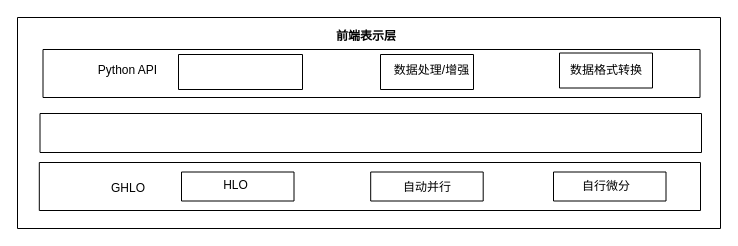
This 738x246 diagram has some shape labels left out. Each missing label, with the centre of its shape:
"MindSpore IR统一计算图表达" belongs at point (370, 132).
"模型训练/推理/导出" belongs at point (240, 72).
